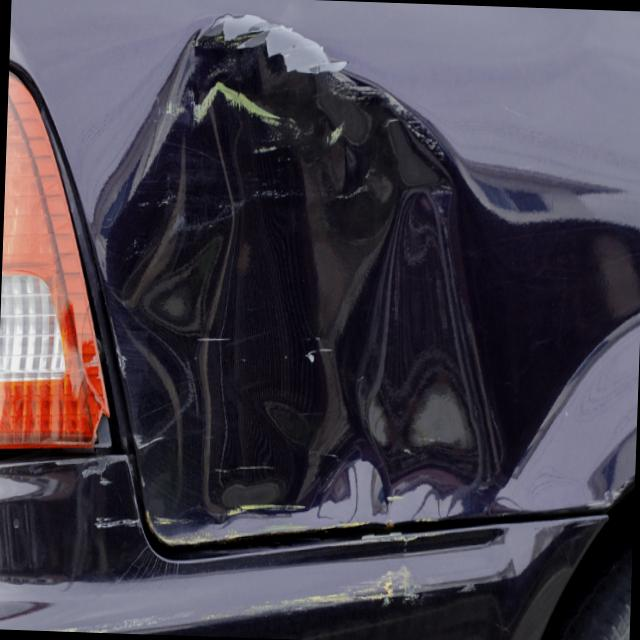Phare abime: (0, 257, 134, 444)
Rayure: (154, 182, 397, 484), (183, 61, 363, 162)
